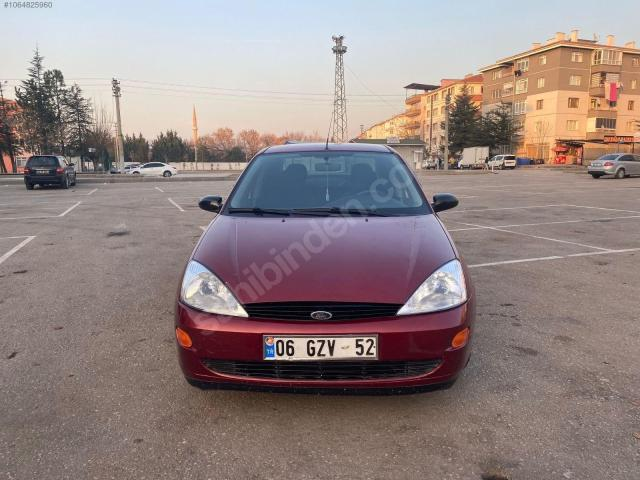plaka: (264, 335, 377, 360)
